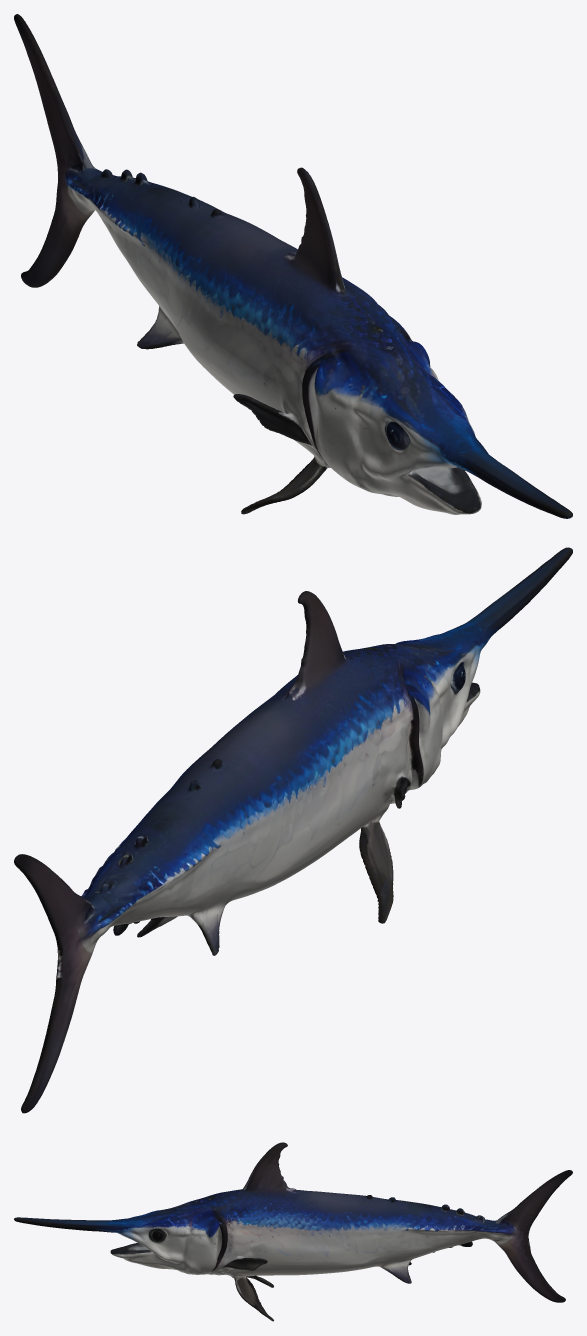
The model's file is fish_swordfish.glb.
3 views of the same model, one above another, from view 1: azimuth 30°, elevation 25°; view 2: azimuth 150°, elevation 25°; view 3: azimuth 270°, elevation 25° (orthographic). The views are drawn at different scales.
Parts seen in each view (by area): view 1: tripo_node_89838eaf-4ff8-45bb-80c4-aa3d66f7c23c; view 2: tripo_node_89838eaf-4ff8-45bb-80c4-aa3d66f7c23c; view 3: tripo_node_89838eaf-4ff8-45bb-80c4-aa3d66f7c23c.
Boxes of the visible parts, x1,y1,x2,y2 form: tripo_node_89838eaf-4ff8-45bb-80c4-aa3d66f7c23c: (14,14,572,518); tripo_node_89838eaf-4ff8-45bb-80c4-aa3d66f7c23c: (14,547,572,1113); tripo_node_89838eaf-4ff8-45bb-80c4-aa3d66f7c23c: (14,1142,572,1321).
Bounding box in the file's own units: 0.1776 × 0.3194 × 1.
1 material, 1 textured.
